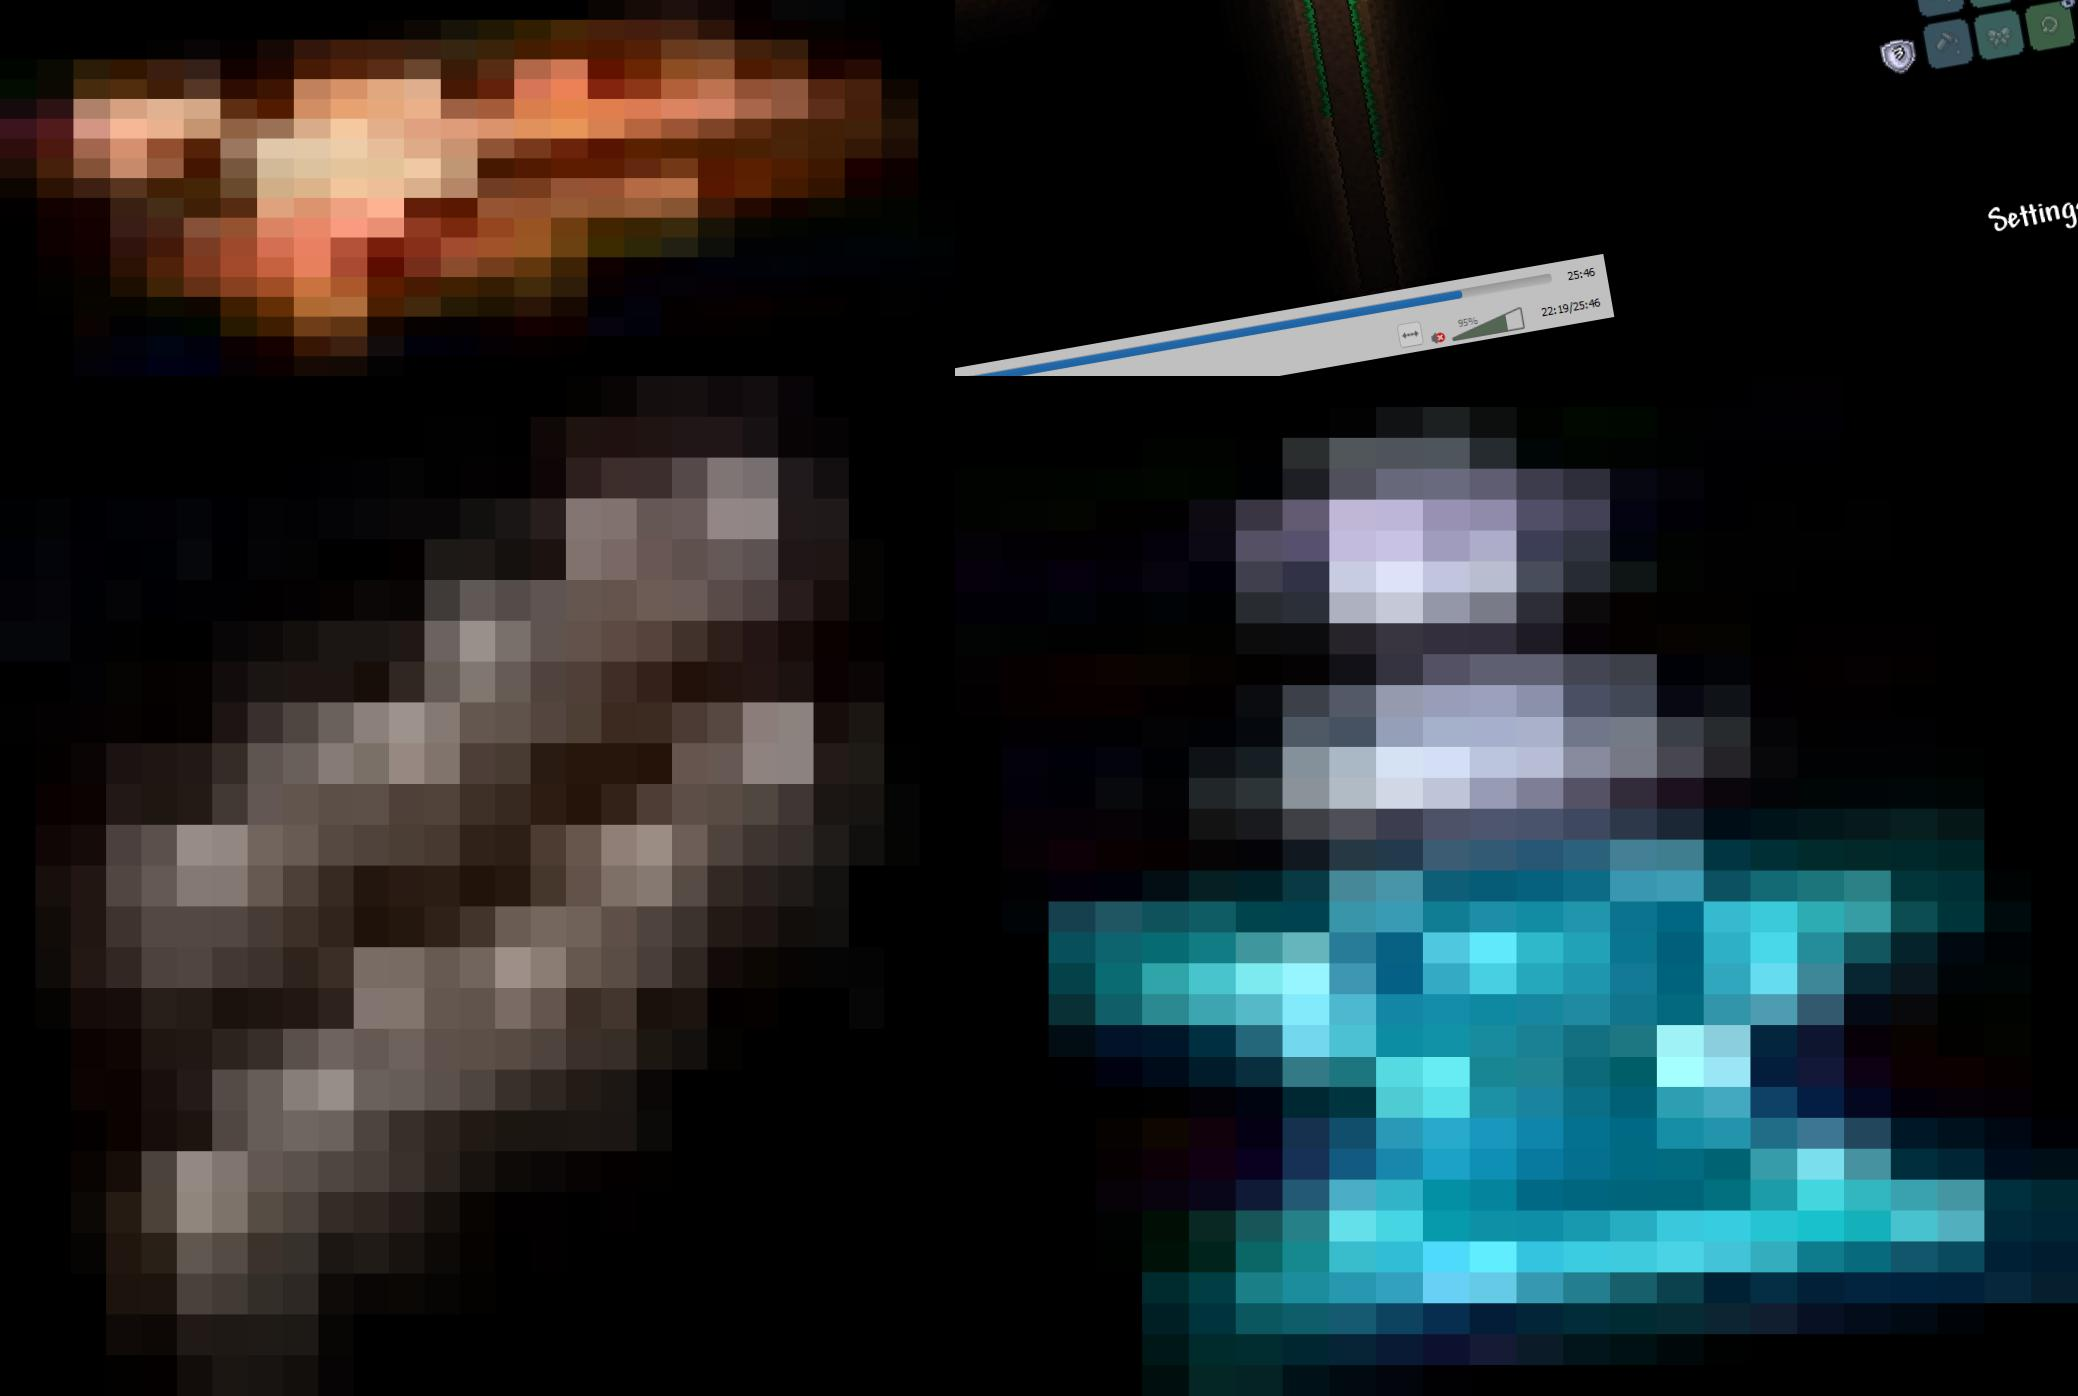helmet: (0, 0, 955, 375)
recallP: (955, 375, 2078, 1396)
wood: (0, 375, 955, 1396)
